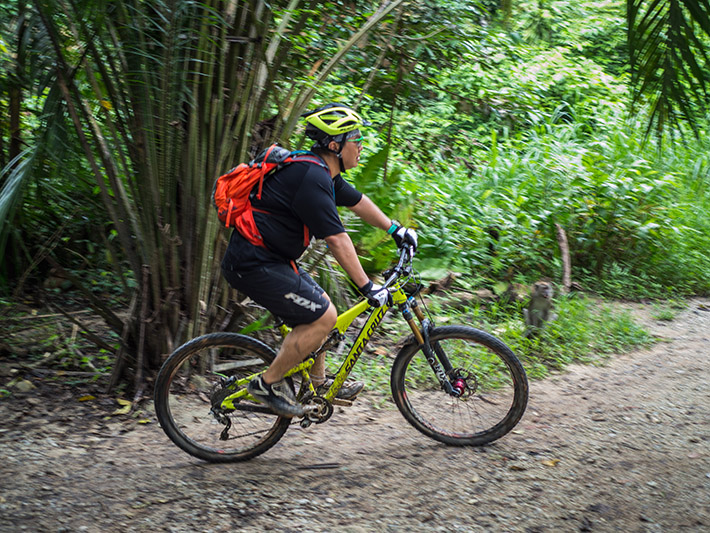bike: (152, 234, 529, 464)
person: (213, 105, 391, 419)
tree: (88, 8, 229, 381)
